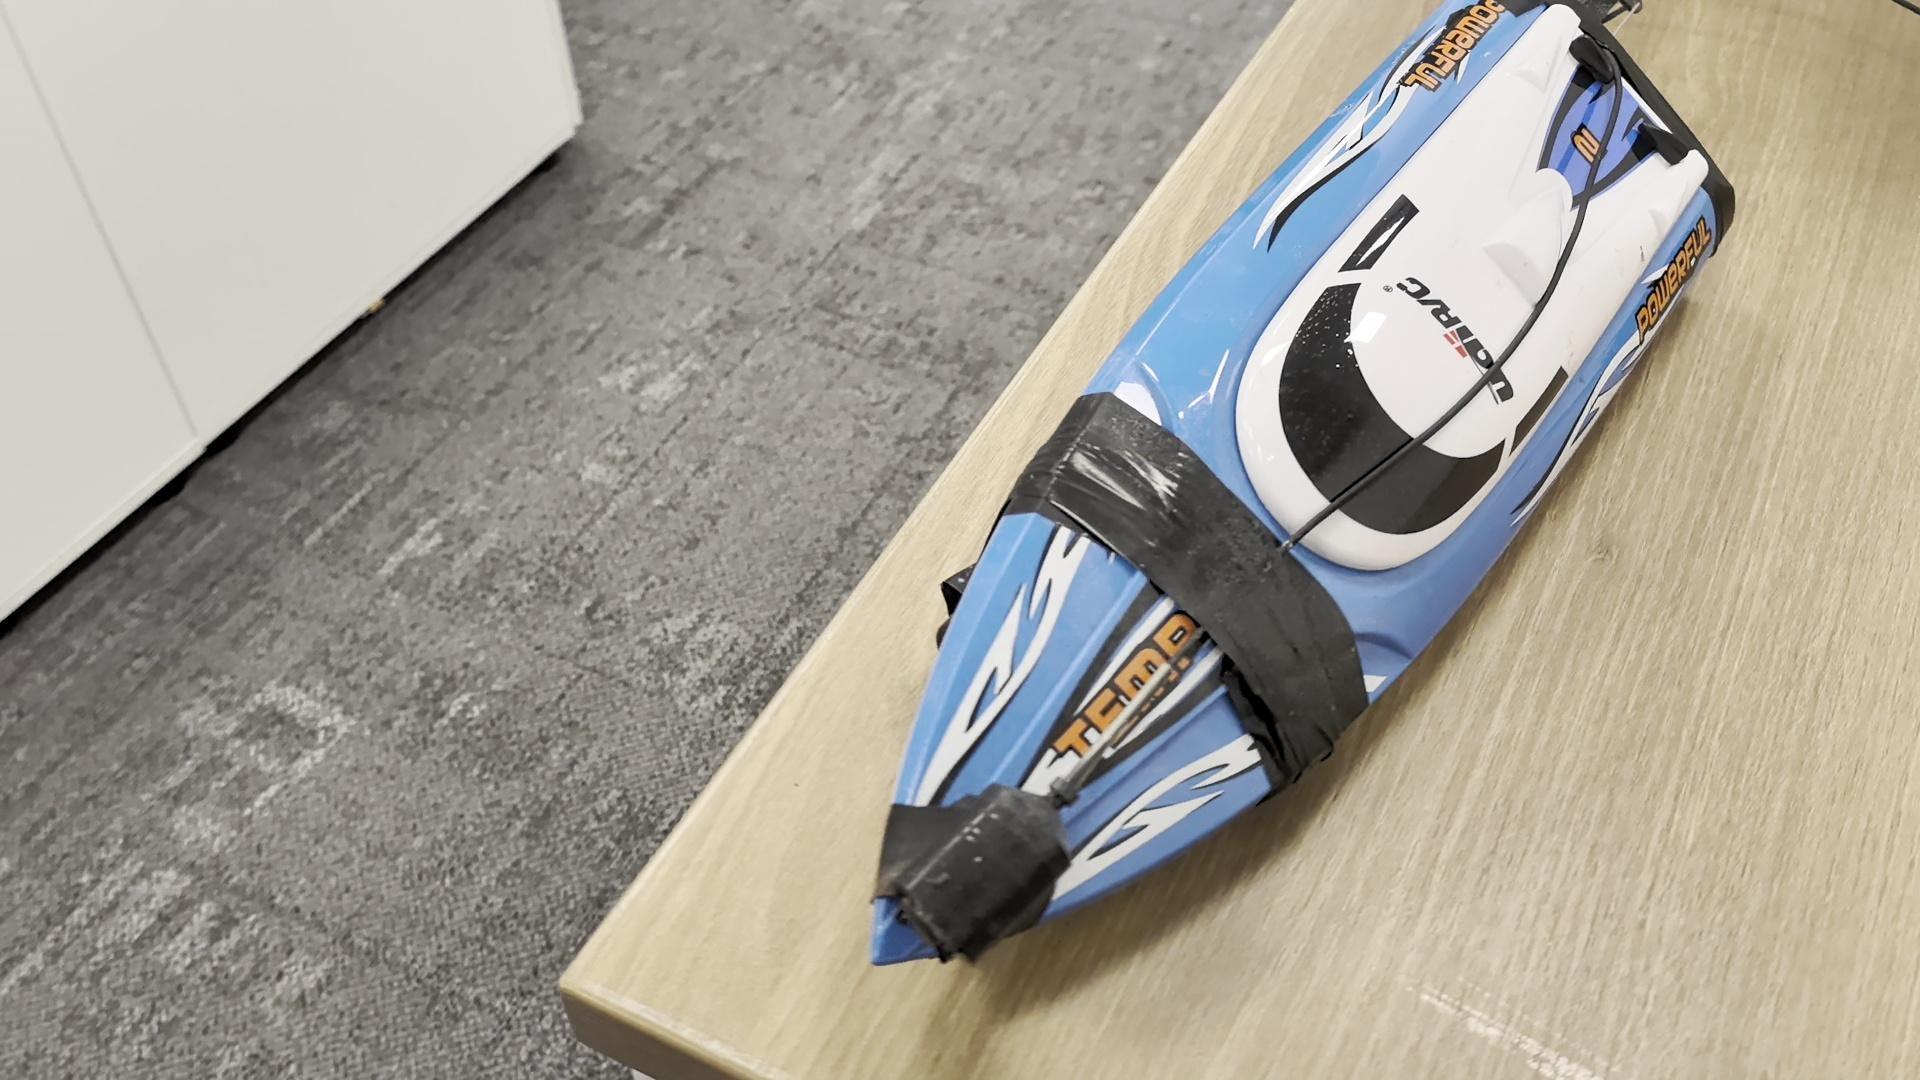Boat: (862, 3, 1734, 969)
